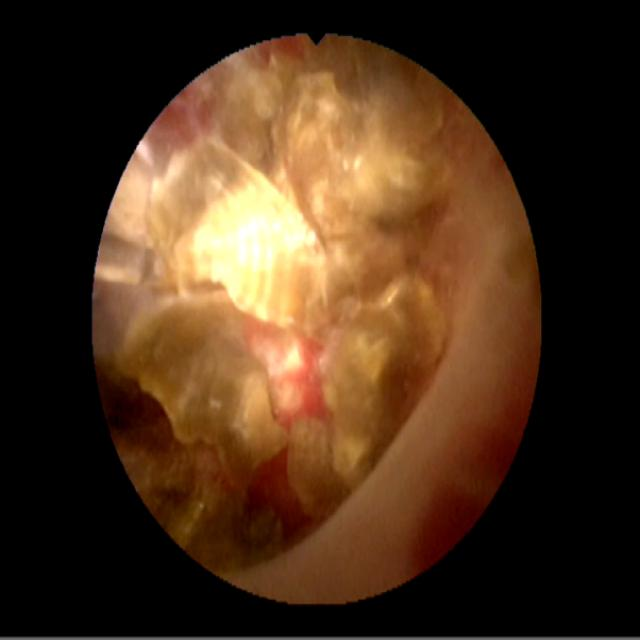stone: (104, 61, 459, 517)
